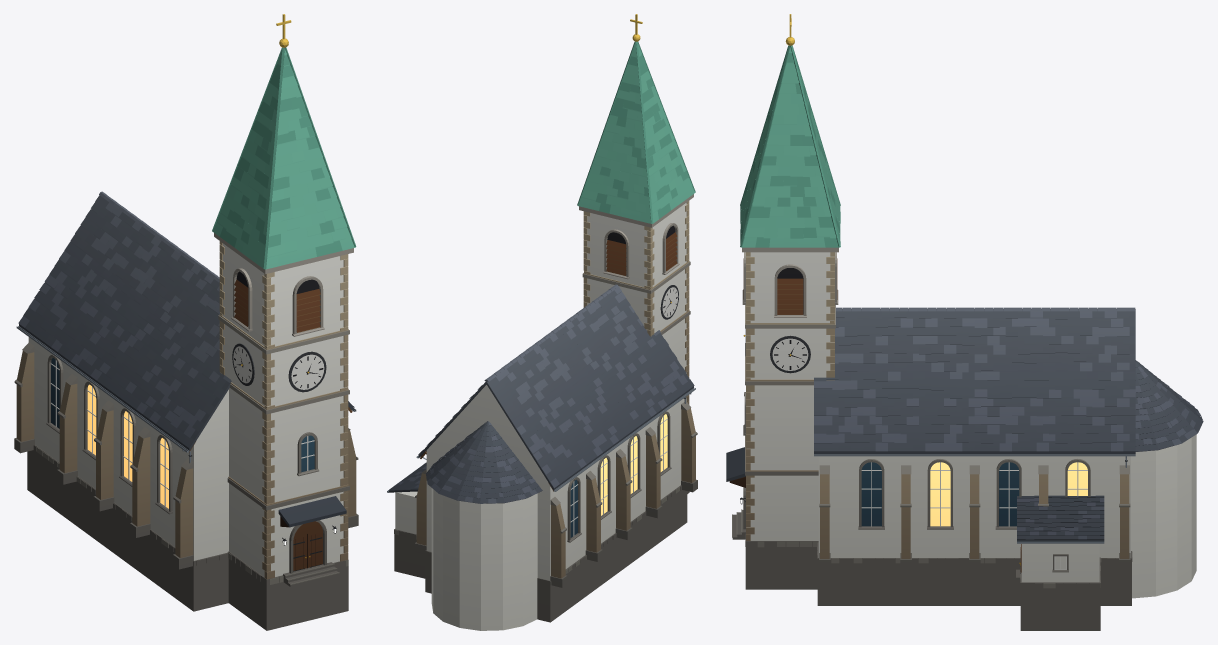
File: Church.fbx
The picture shows the model from 3 angles, left to right: view 1: azimuth 30°, elevation 25°; view 2: azimuth 150°, elevation 25°; view 3: azimuth 270°, elevation 25°; orthographic projection. The views are drawn at different scales.
Parts seen in each view (by area): view 1: Church_LOD0; view 2: Church_LOD0; view 3: Church_LOD0.
Part boxes in pixels (box(x1,y1,x2,y2)): Church_LOD0: box(14, 14, 358, 630); Church_LOD0: box(387, 14, 697, 630); Church_LOD0: box(726, 14, 1203, 630).
Size of what is drawn, in the model's own units: 15.86 by 39.3 by 30.55.
1 material, 1 textured.
